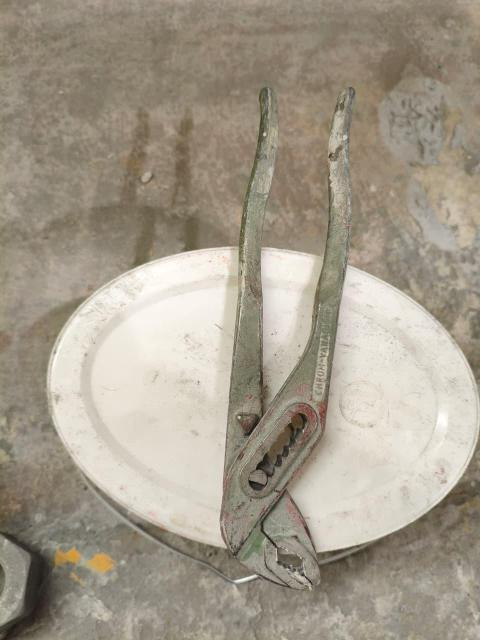Metal: (220, 80, 360, 597), (0, 516, 33, 636)
